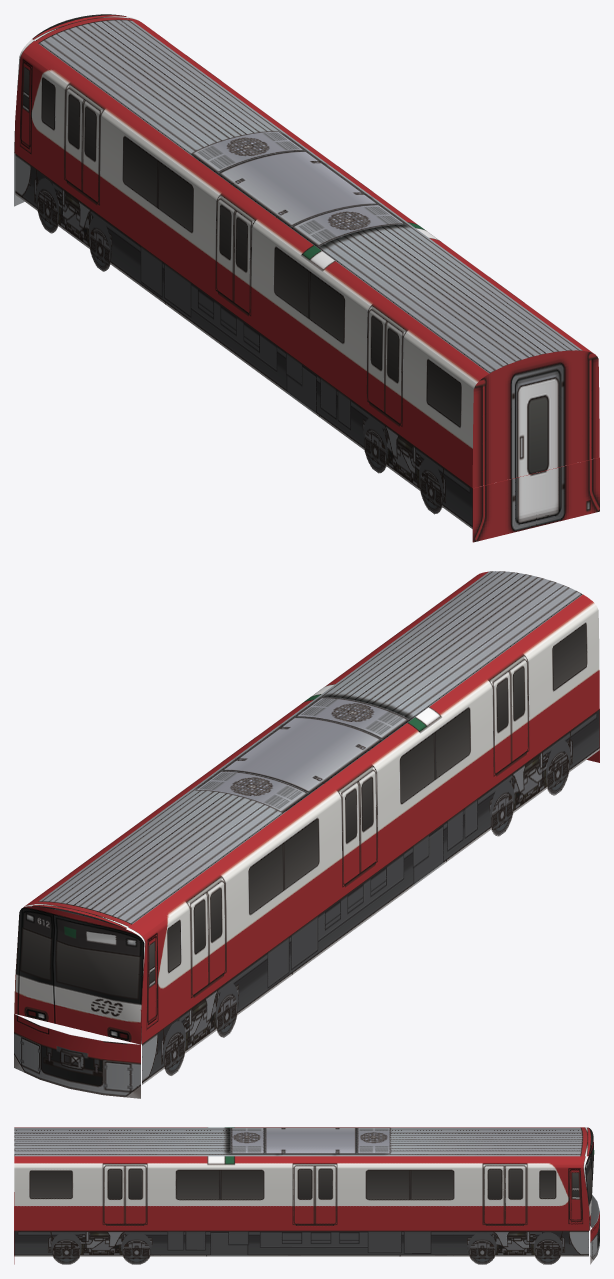
File: car4.glb
3 views of the same model, one above another, from view 1: azimuth 30°, elevation 25°; view 2: azimuth 150°, elevation 25°; view 3: azimuth 270°, elevation 25° (orthographic). The views are drawn at different scales.
Visible parts, largest first — view 1: car4.glb; view 2: car4.glb; view 3: car4.glb.
Boxes of the visible parts, x1,y1,x2,y2 form: car4.glb: [14, 14, 599, 542]; car4.glb: [14, 571, 599, 1098]; car4.glb: [14, 1127, 599, 1264].
Size of the model in its own units: 2.83 by 3.64 by 18.03.
Materials: 9 (8 with a texture image).
